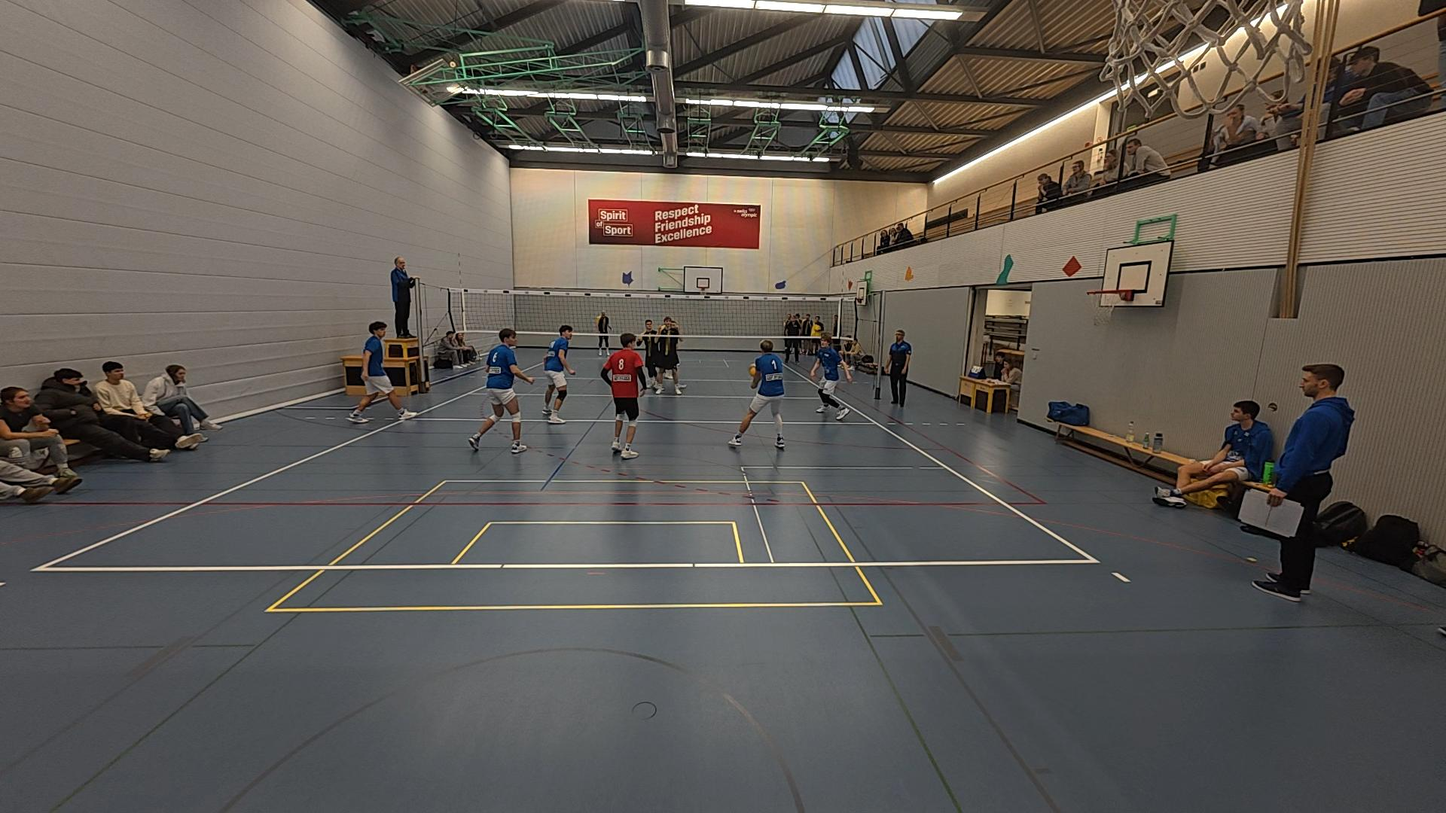Player: (467, 328, 528, 453), (347, 321, 413, 425), (601, 330, 648, 459), (810, 336, 850, 420), (542, 324, 575, 425), (652, 317, 685, 396), (641, 318, 667, 395), (590, 311, 613, 361)
Receive: (731, 341, 785, 449)
ball: (746, 357, 759, 379), (901, 265, 916, 280)
